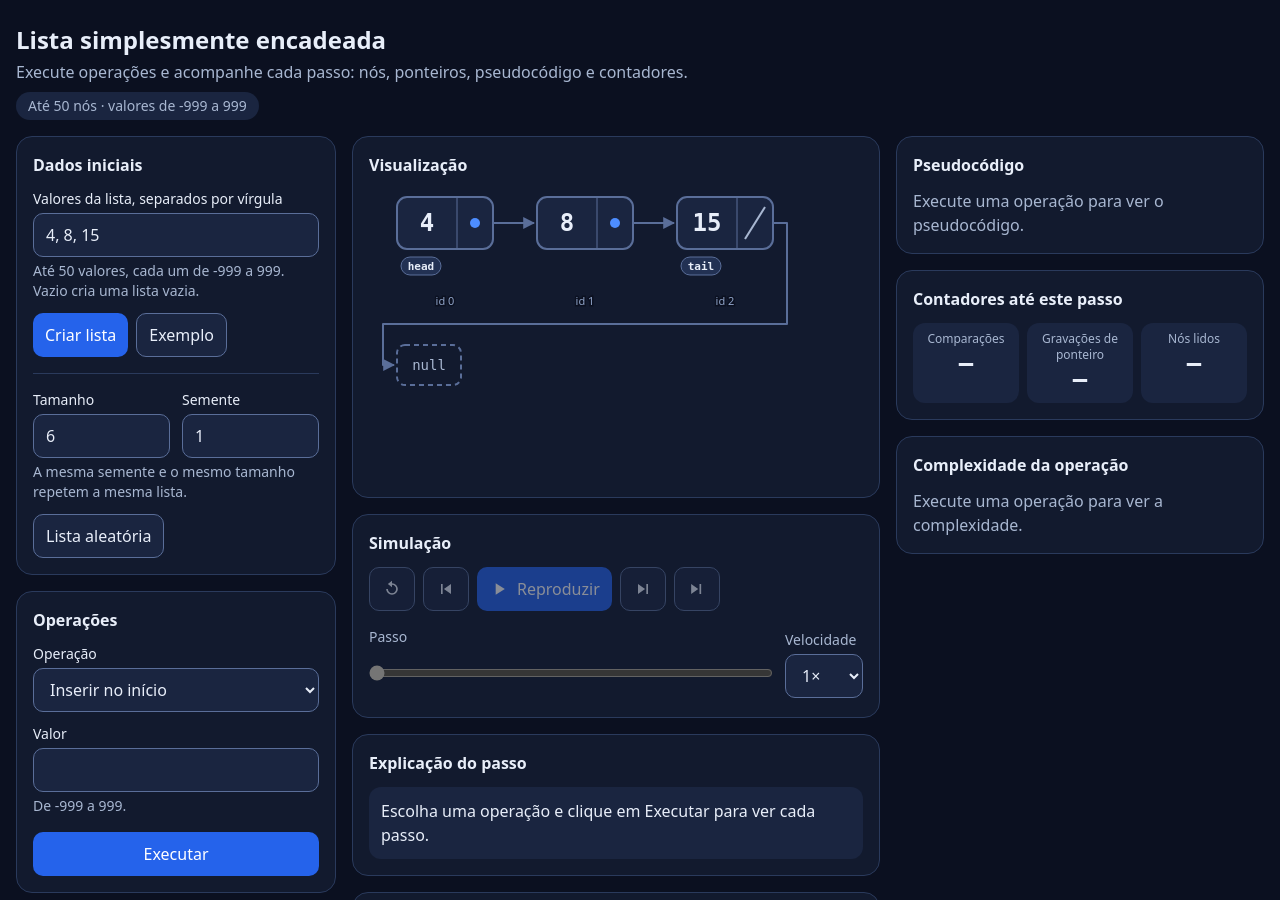
Test: tratamento de erros › lista vazia: remover é recusa explicada, com 2 passos
Clear the field labelled "Valores da lista, separados por vírgula": coordinates (176, 235) [33,213,319,257]
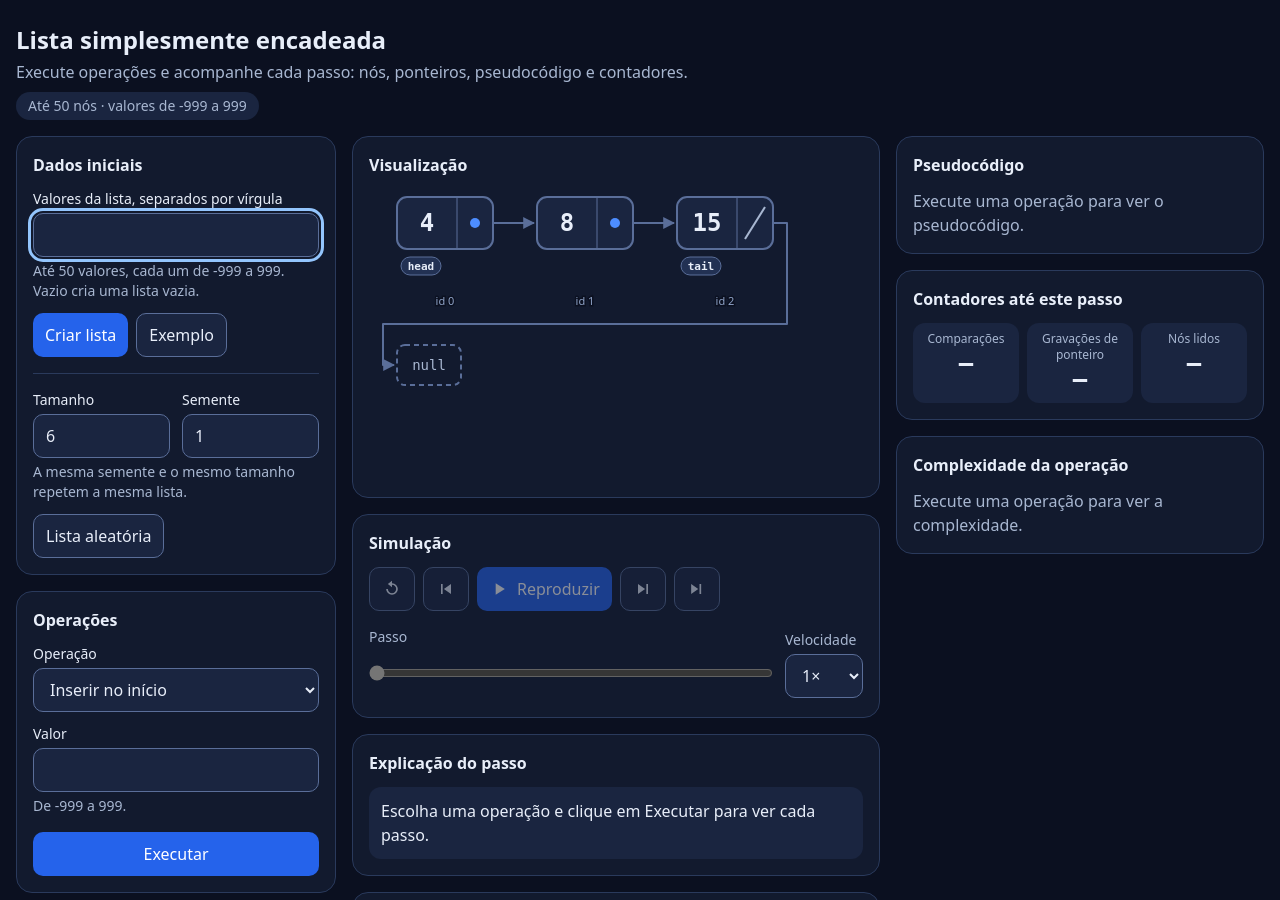
Click the button "Criar lista": coordinates (81, 335) [33,313,128,357]
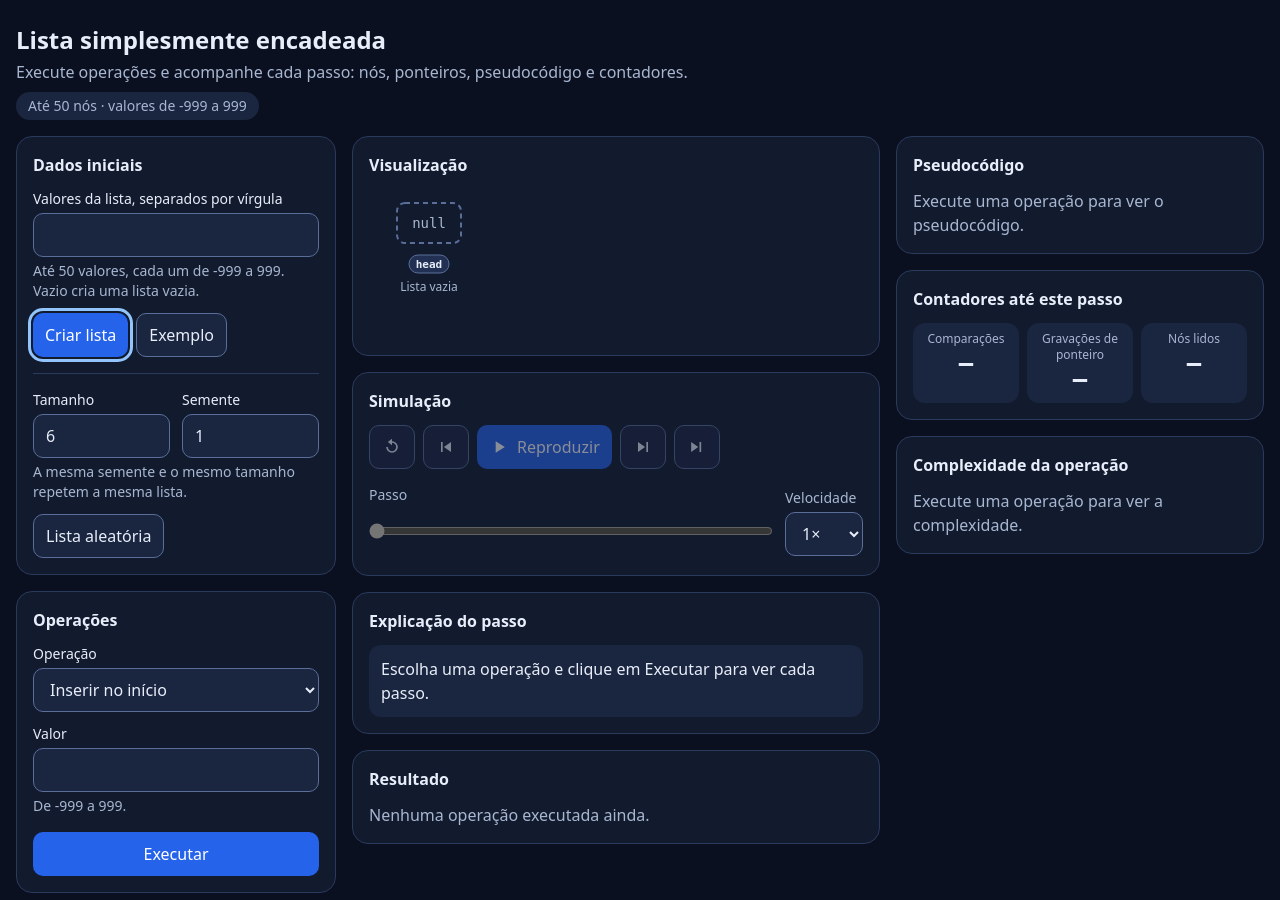
Select "Remover do início" in the dropdown labelled "Operação": coordinates (176, 690) [33,668,319,712]
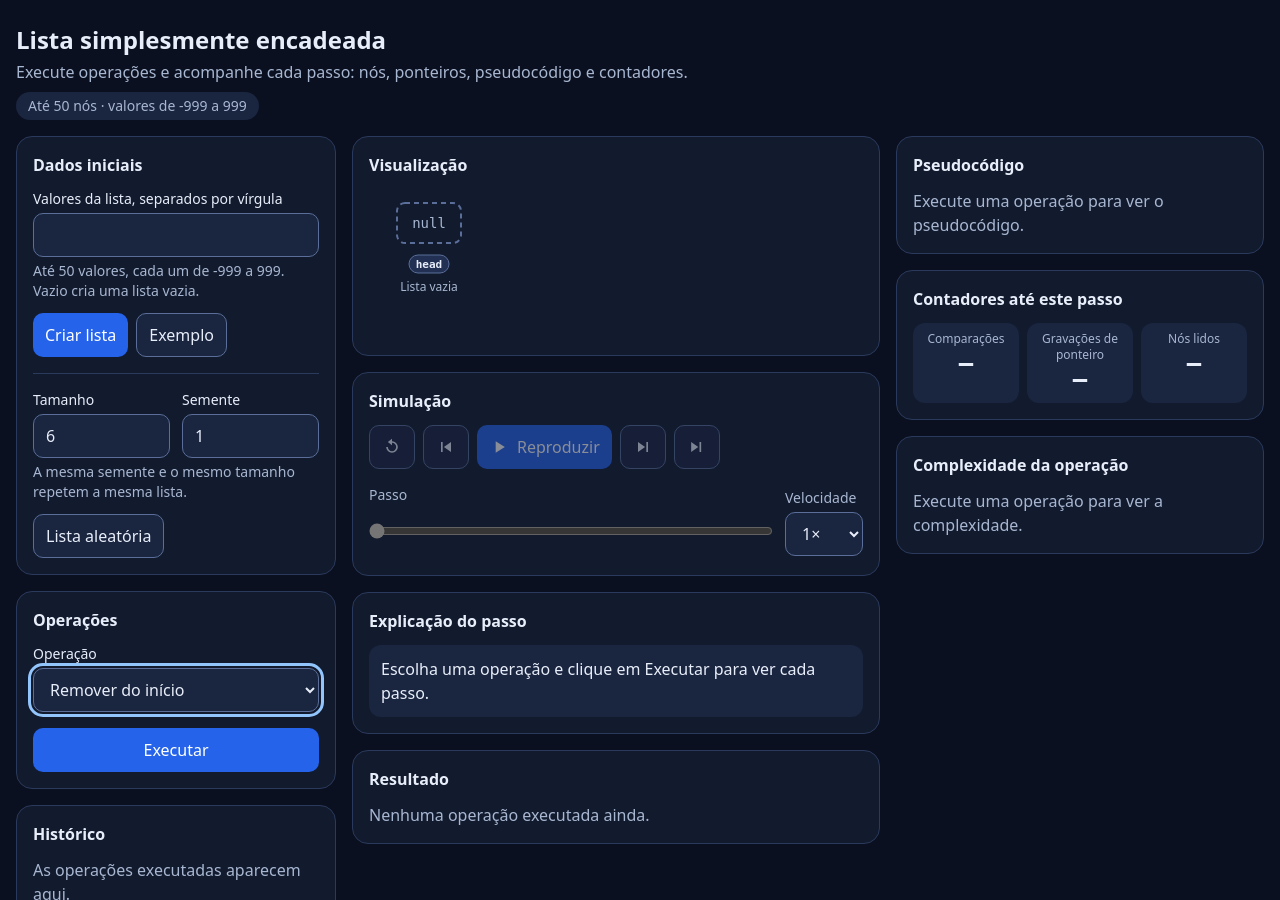
Click the button "Executar": coordinates (176, 750) [33,728,319,772]
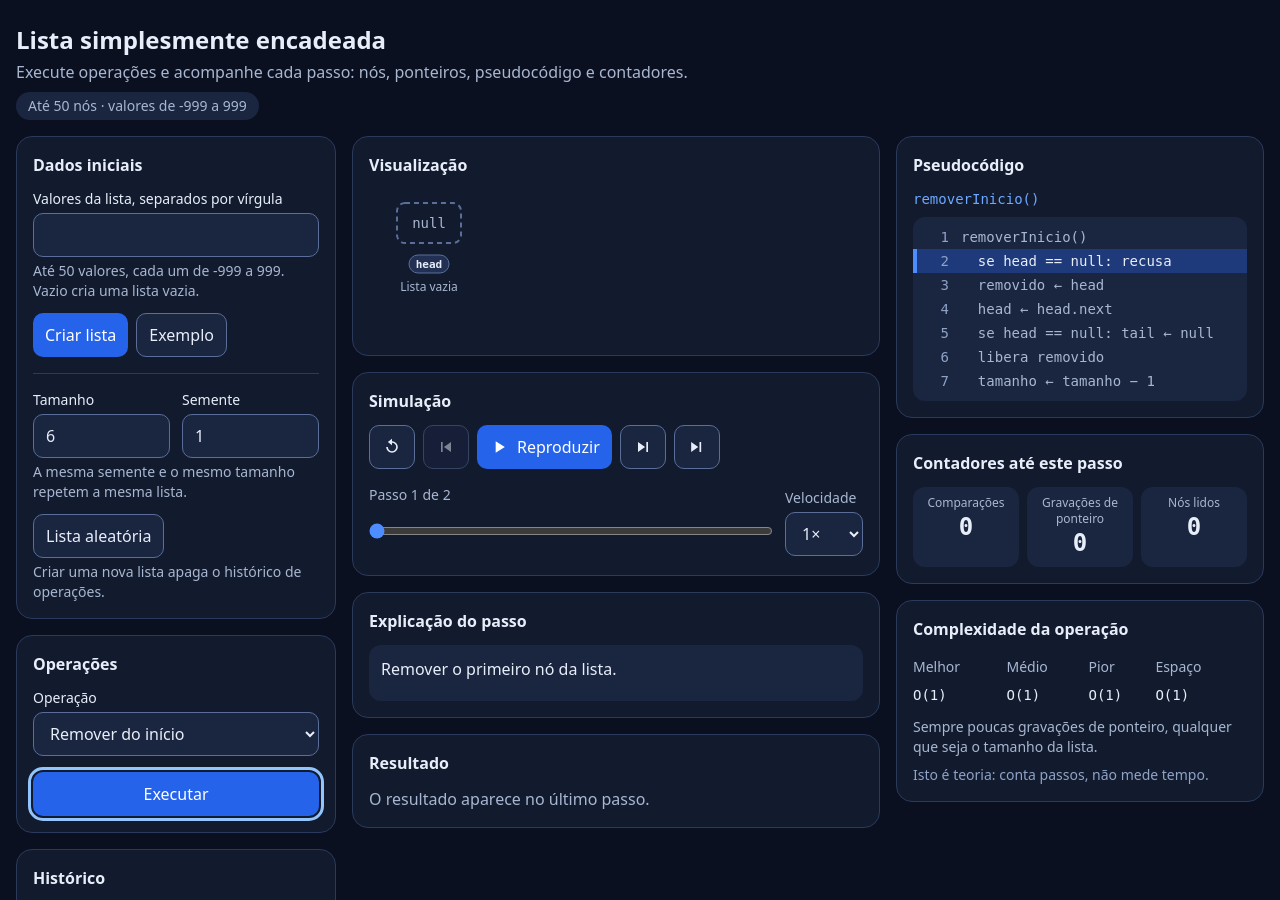
Click the button named "Ir ao último passo": coordinates (697, 447) [674,425,720,469]
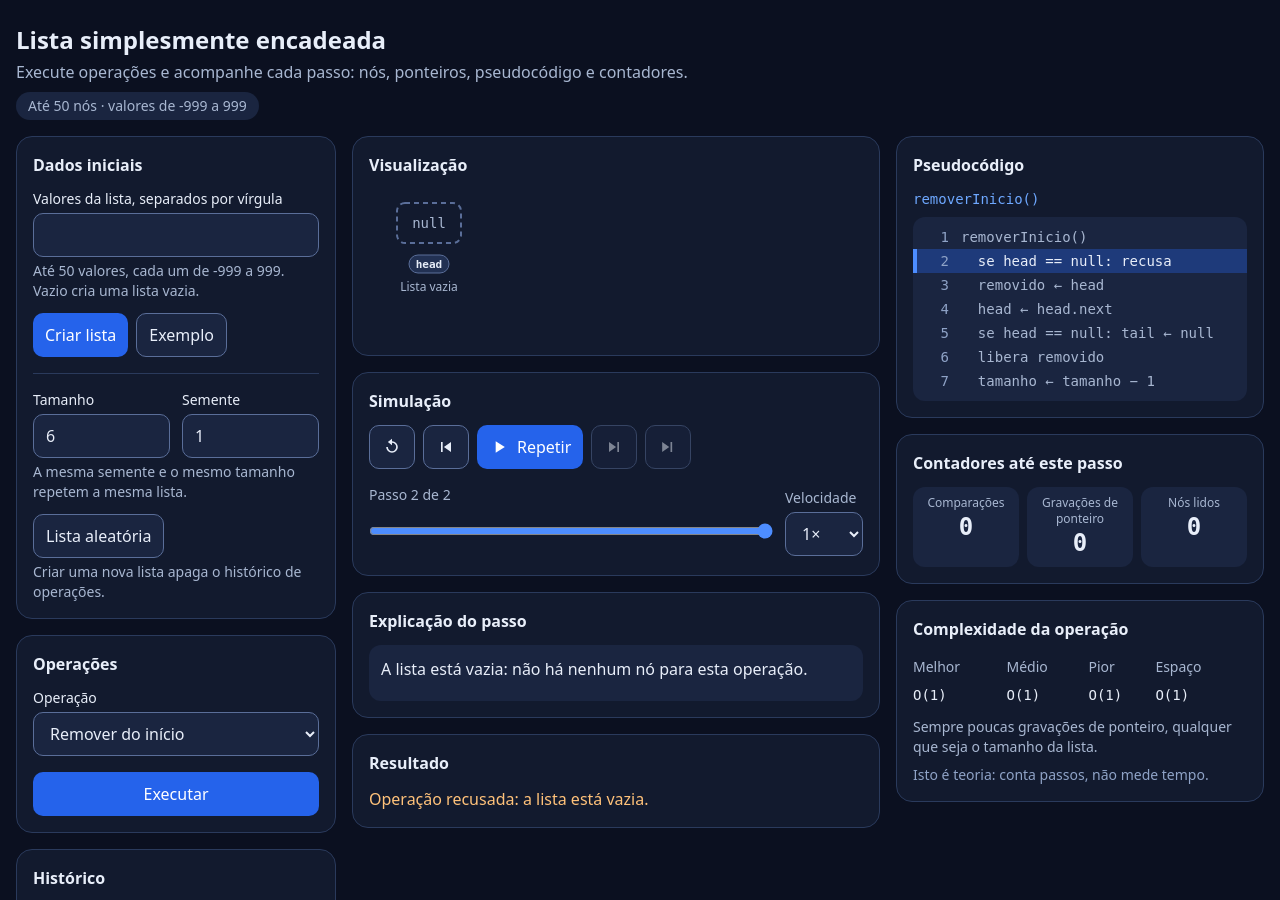
Check: the message with test id "step-message" shows "A lista está vazia", box [381,658,807,680]
Check: the message with test id "result" reads "Operação recusada: a lista está vazia.", box [369,788,648,810]
